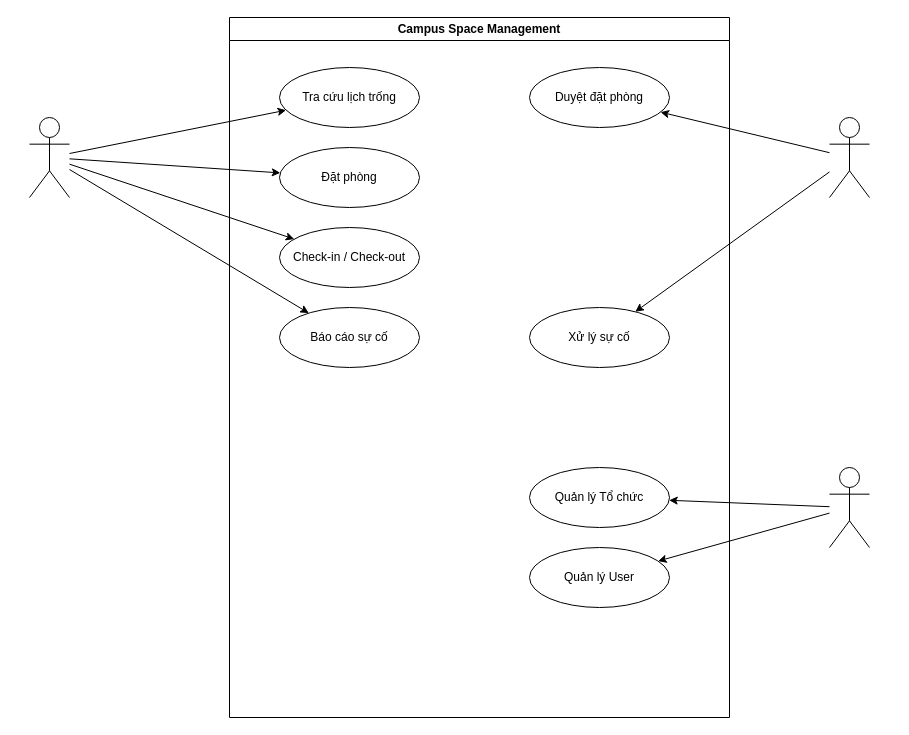
The diagram is 909 pixels wide and 735 high, and some of its shapes have lost their labels. Here are the shapes that lost their labels. From the top down, the centre of each, then its label:
At point (49, 157): "Người dùng (SV/GV)".
At point (849, 157): "Space Manager".
At point (849, 507): "System Admin".
